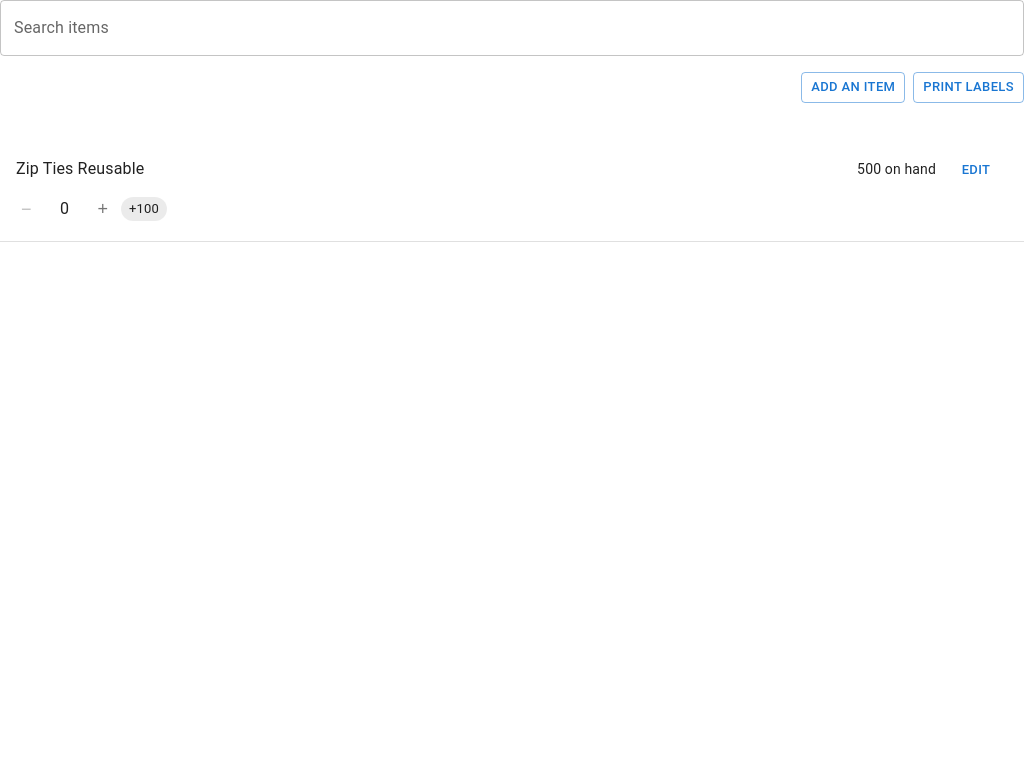
it: a category, made where an item is put in one › offers the way back when the server wants a second look
Expected: the heading "Zip Ties Reusable" is shown, [16,155,144,183]
Click the button "Add an item" at (853, 87), box [801,72,905,103]
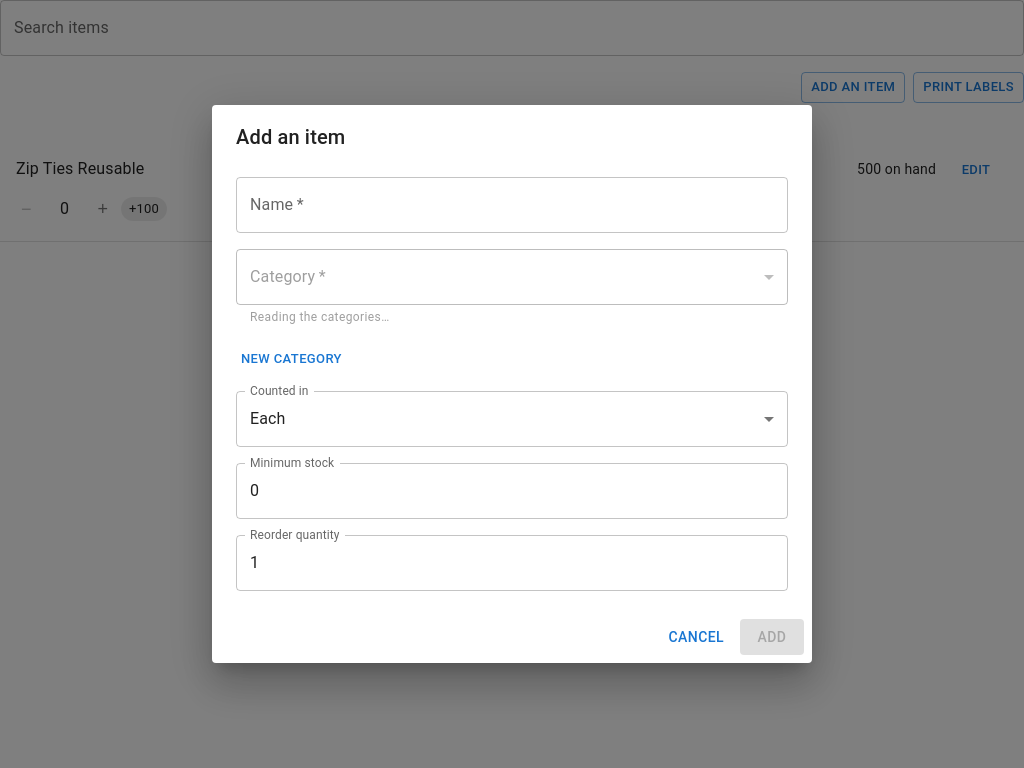
Click the button "New category" at (291, 359), box [236,344,347,375]
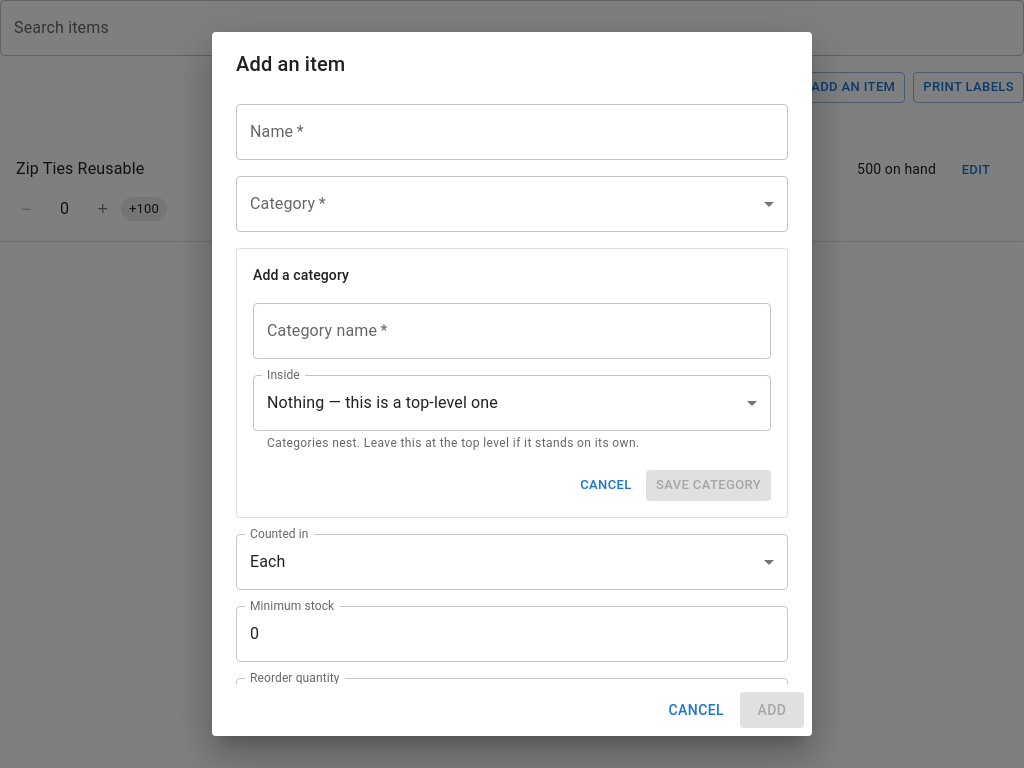
Type "Fittings" into the field labelled "Category name *" at (512, 331), box [253,303,771,359]
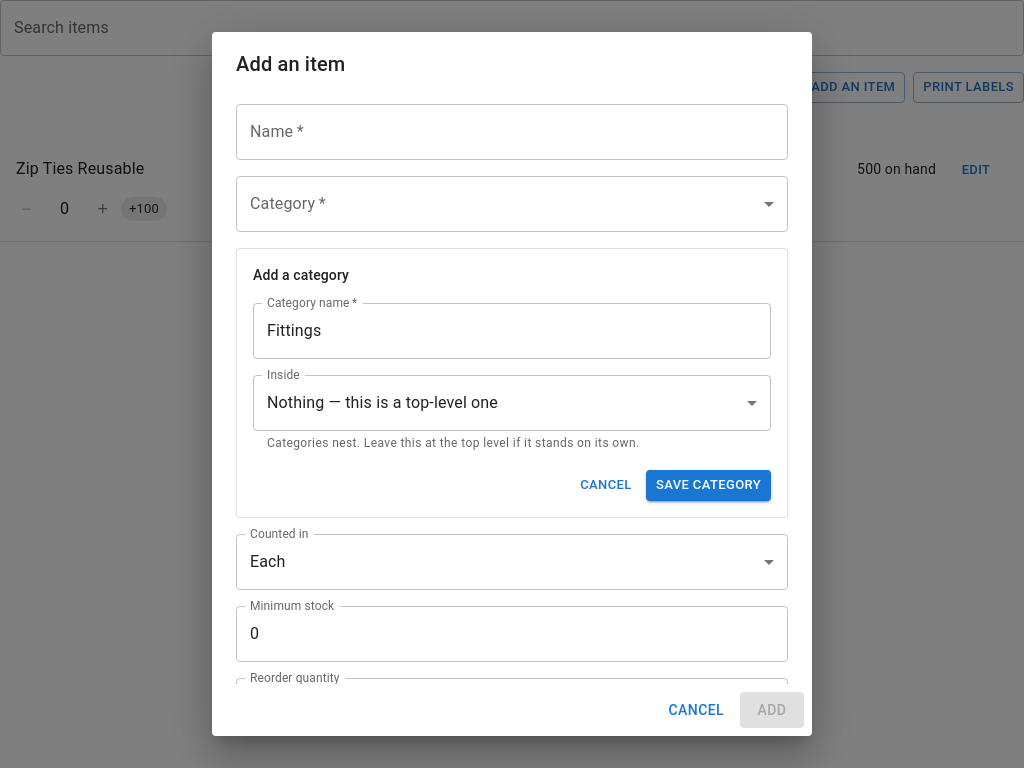
Click the button "Save category" at (708, 485), box [646,470,771,501]
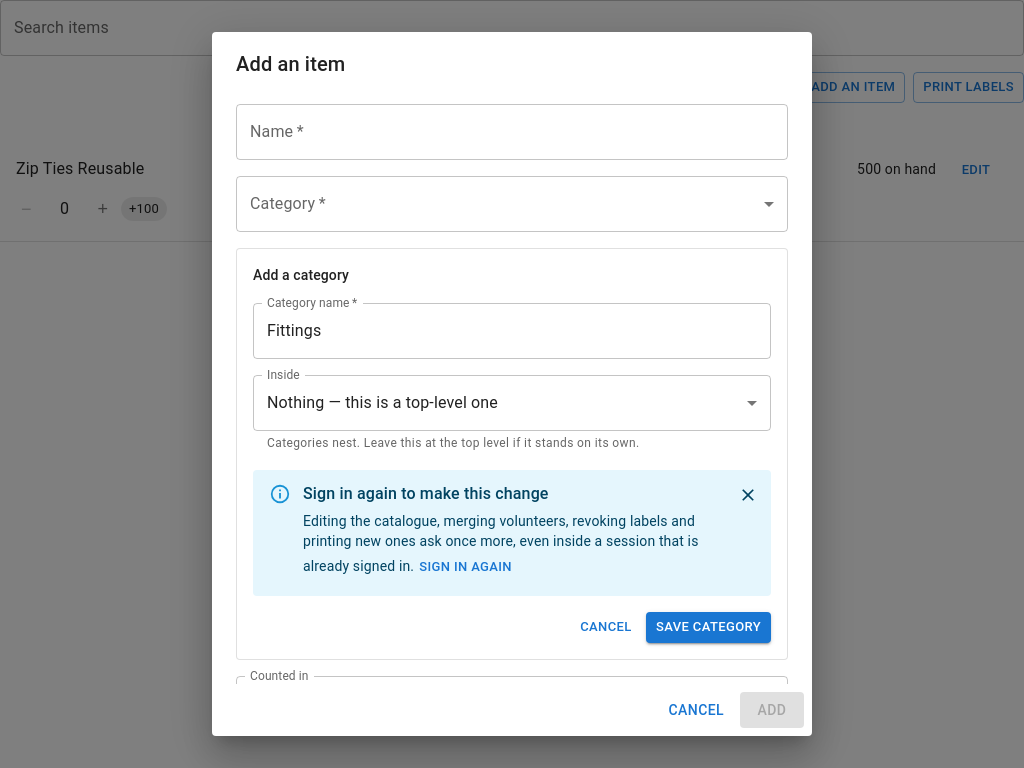
Click the button named "close" at (748, 495), box [733,480,763,510]
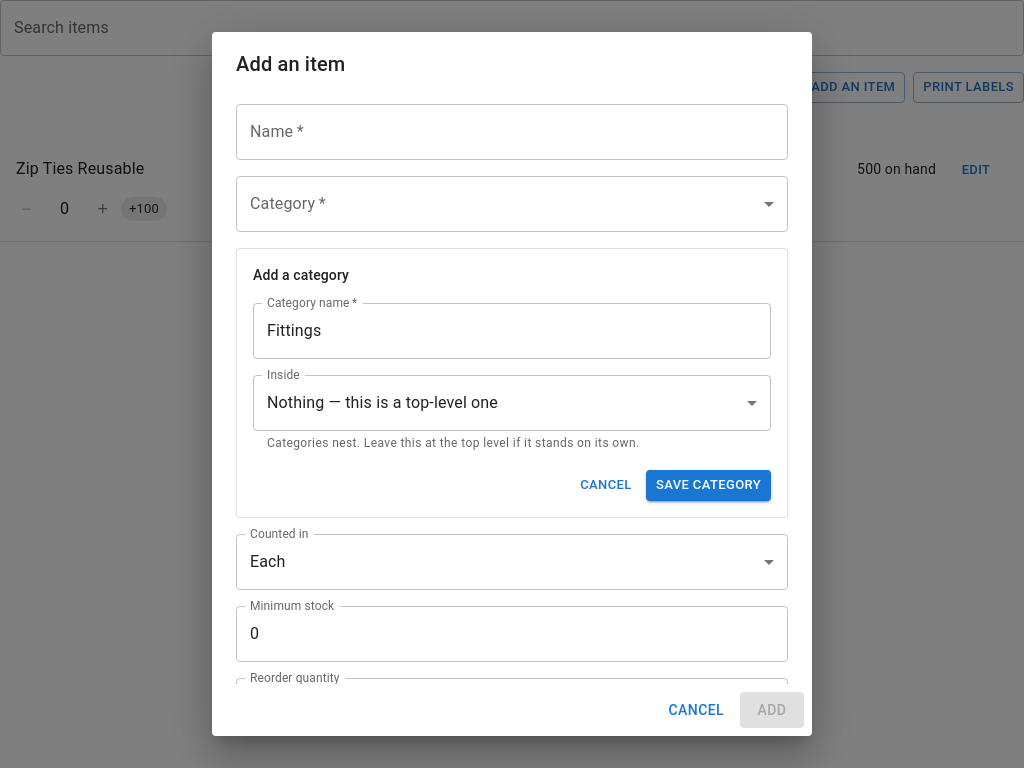
Expected: the text "Sign in again" is gone
